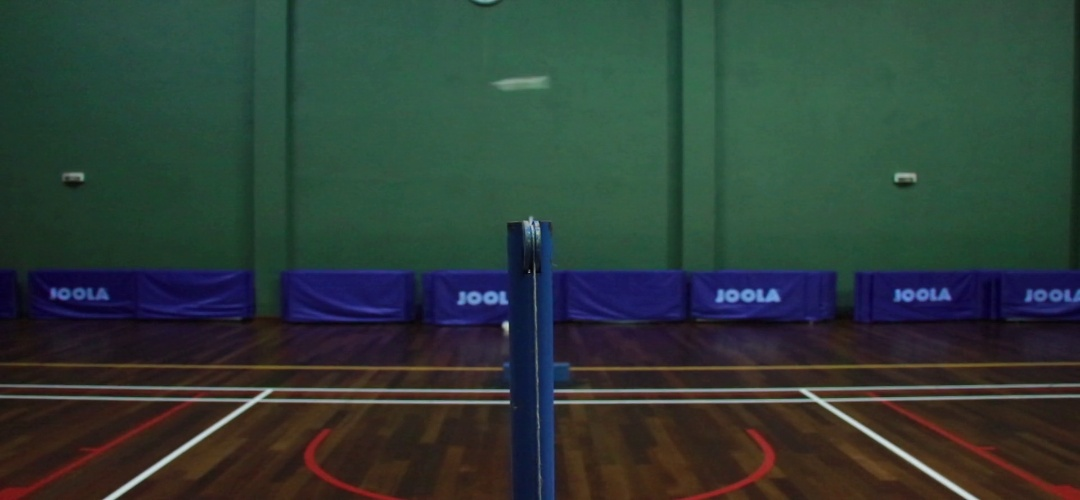c1: (233, 393, 273, 414)
c2: (790, 391, 841, 411)
net_level: (508, 222, 555, 291)
shuttle: (493, 75, 555, 94)
